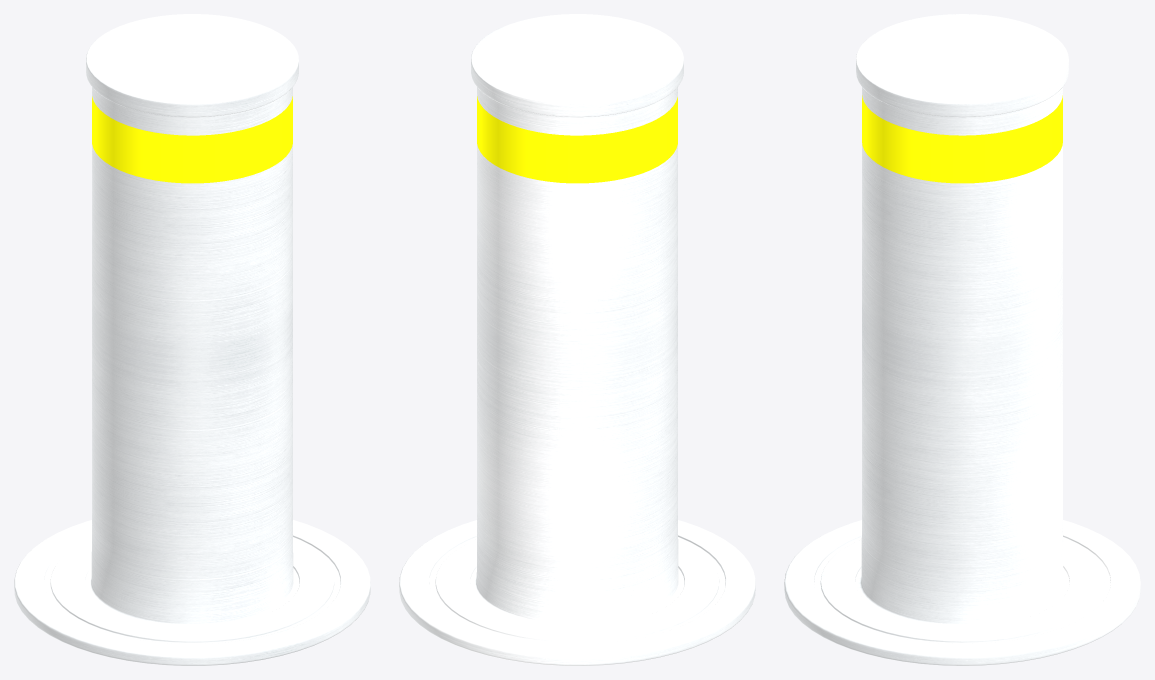
Rendered from Parking_Lot.glb.
3 views of the same model, side by side, from view 1: azimuth 30°, elevation 25°; view 2: azimuth 150°, elevation 25°; view 3: azimuth 270°, elevation 25° (orthographic).
Visible parts, largest first — view 1: Parking_Lot; view 2: Parking_Lot; view 3: Parking_Lot.
Boxes of the visible parts, x1,y1,x2,y2 form: Parking_Lot: (14, 14, 370, 665); Parking_Lot: (399, 14, 755, 665); Parking_Lot: (784, 14, 1140, 665).
Bounding box in the file's own units: 0.32 × 0.53 × 0.32.
Materials: 2 (1 with a texture image).
